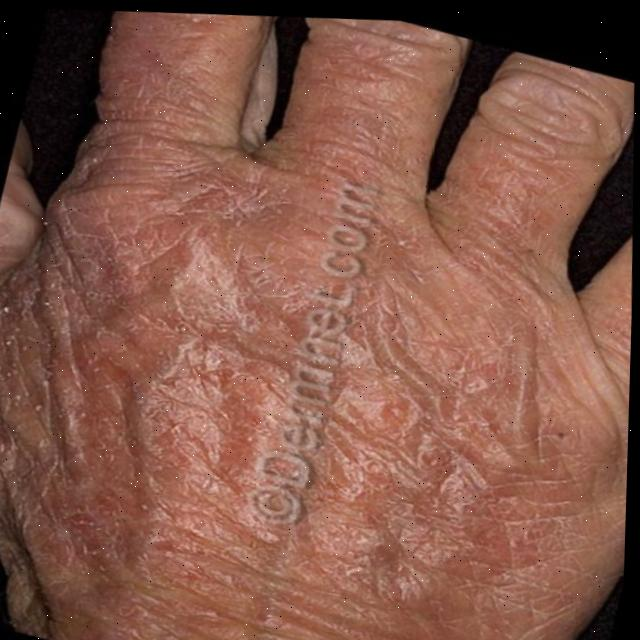Eczema: (21, 205, 587, 606)
